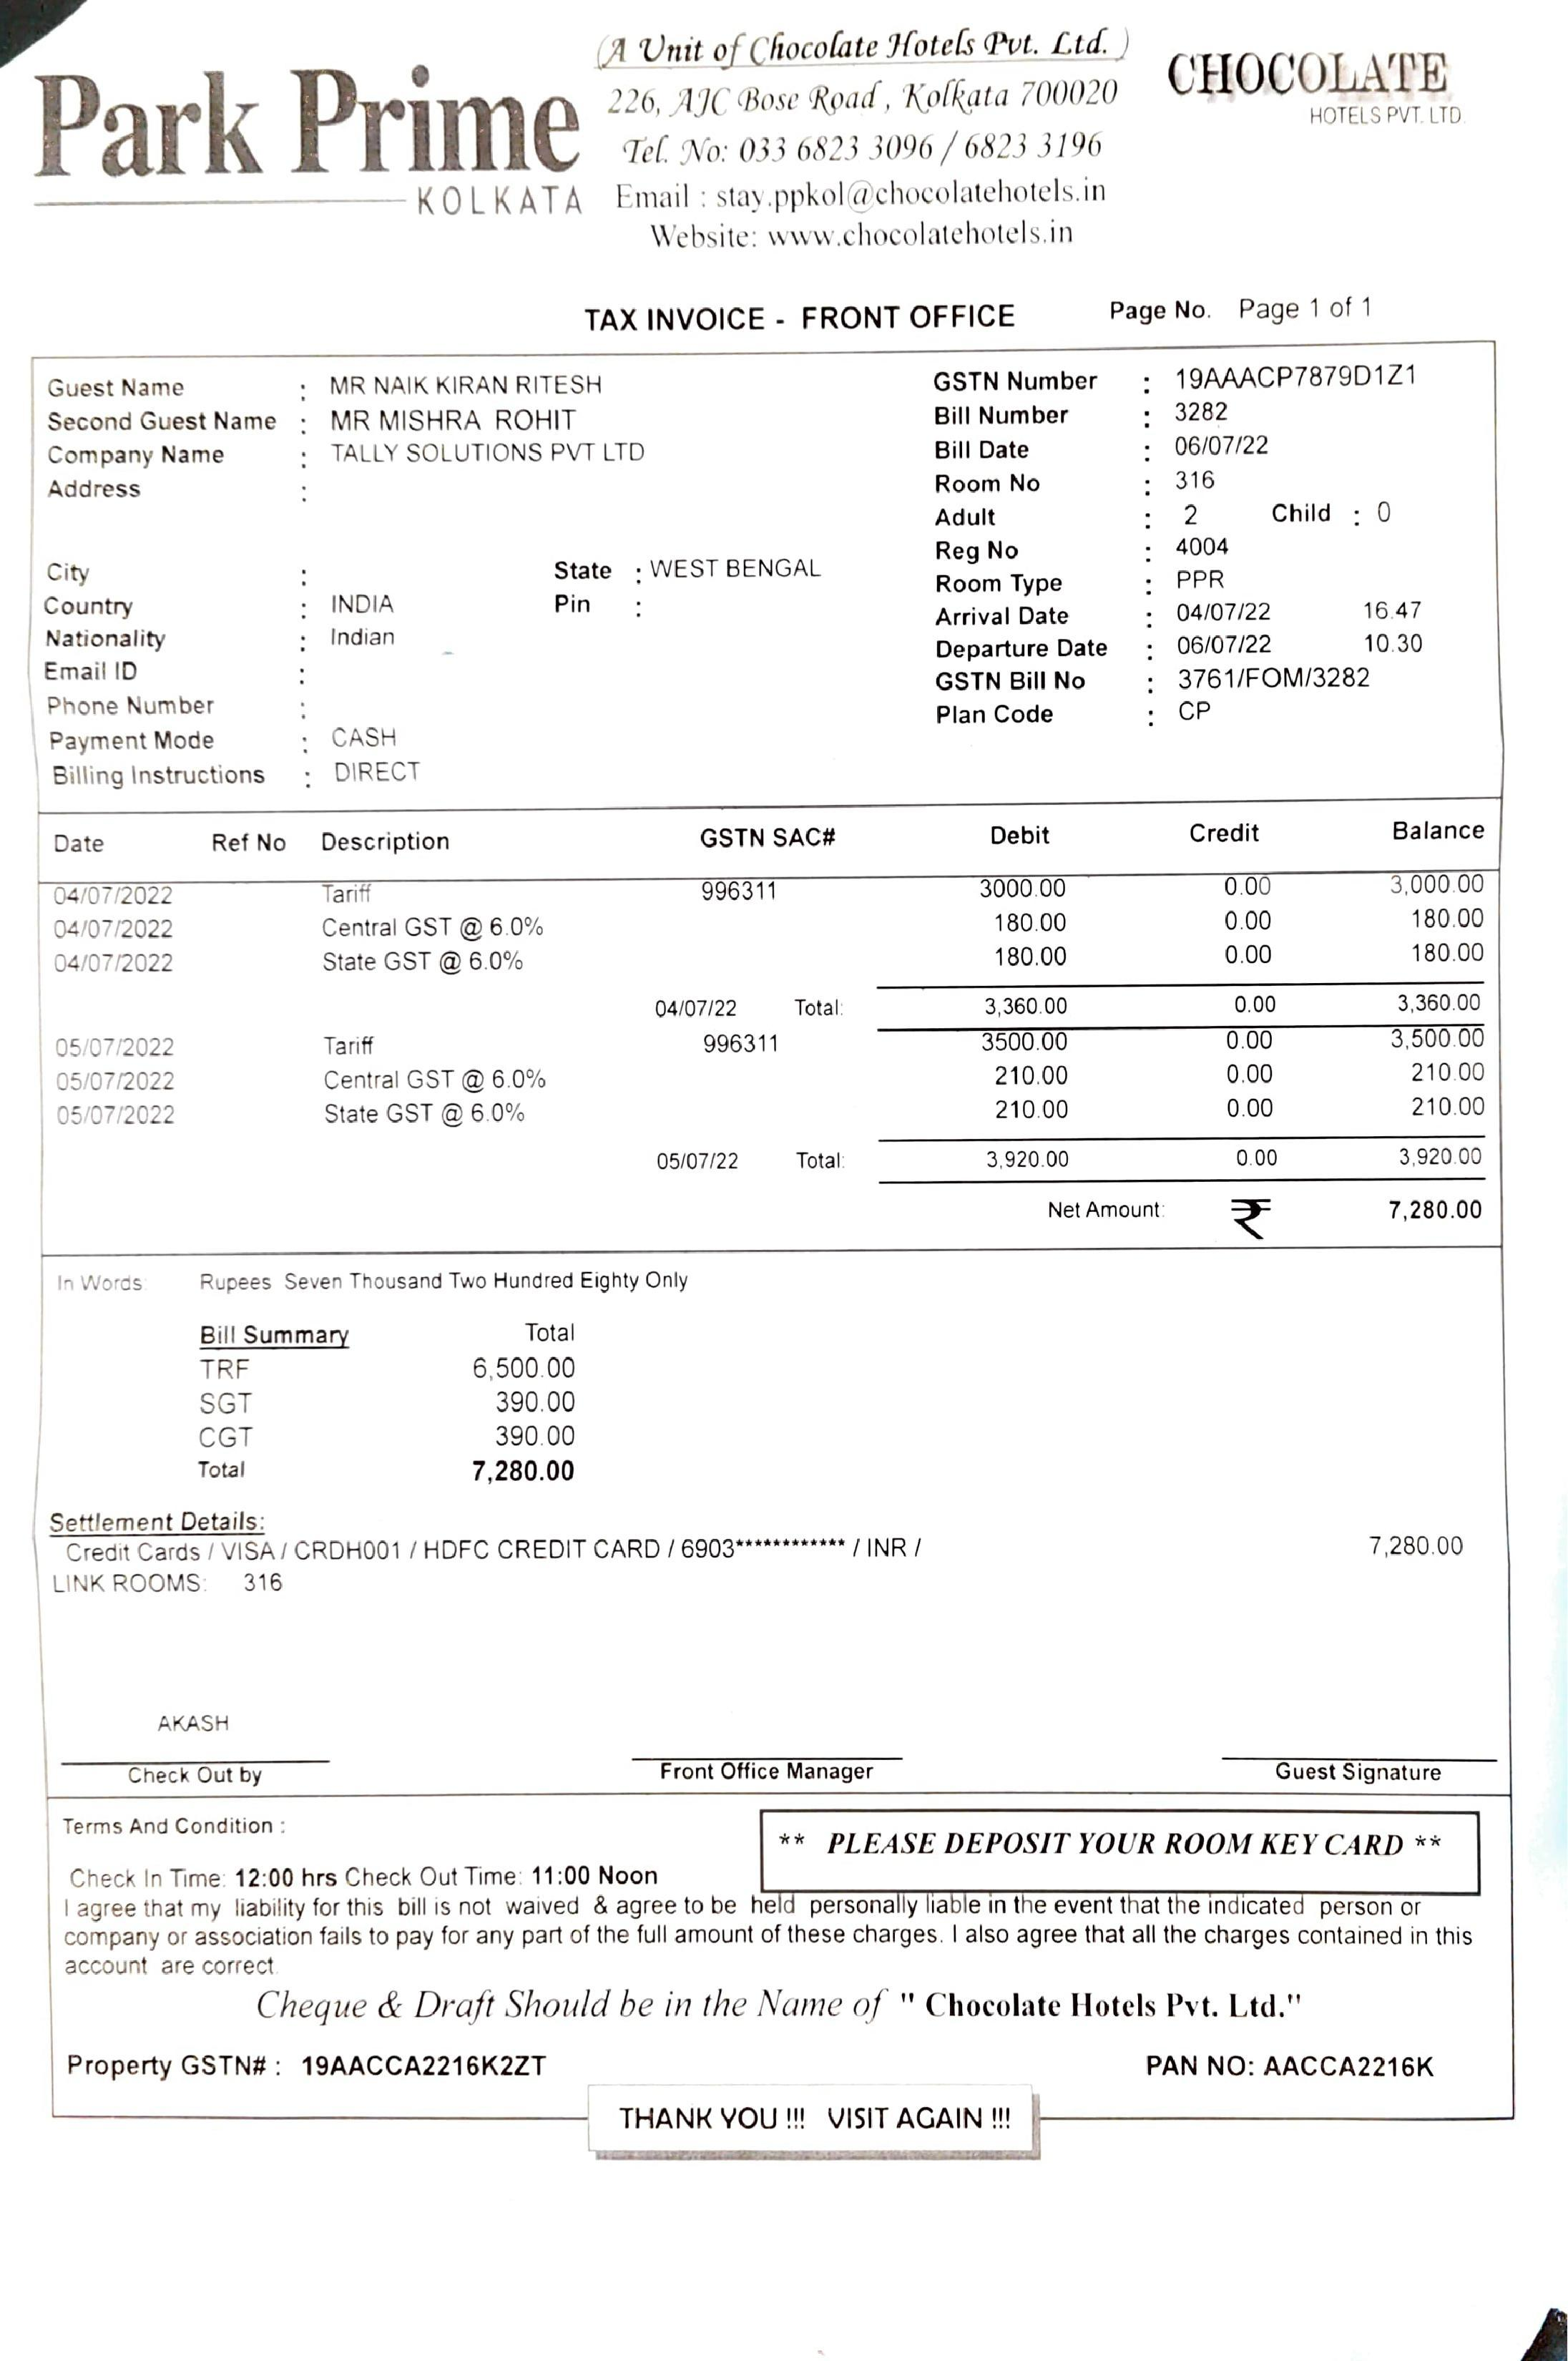InvoiceDate: (1165, 431, 1279, 462)
InvoiceNumber: (1167, 397, 1239, 425)
TotalAmount: (1383, 1192, 1491, 1225)
